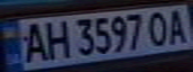3: (72, 16, 96, 56)
5: (90, 13, 112, 55)
7: (124, 11, 148, 51)
9: (109, 12, 130, 53)
A: (18, 19, 48, 63), (163, 6, 193, 44)
H: (39, 17, 72, 61)
O: (145, 9, 172, 47)
